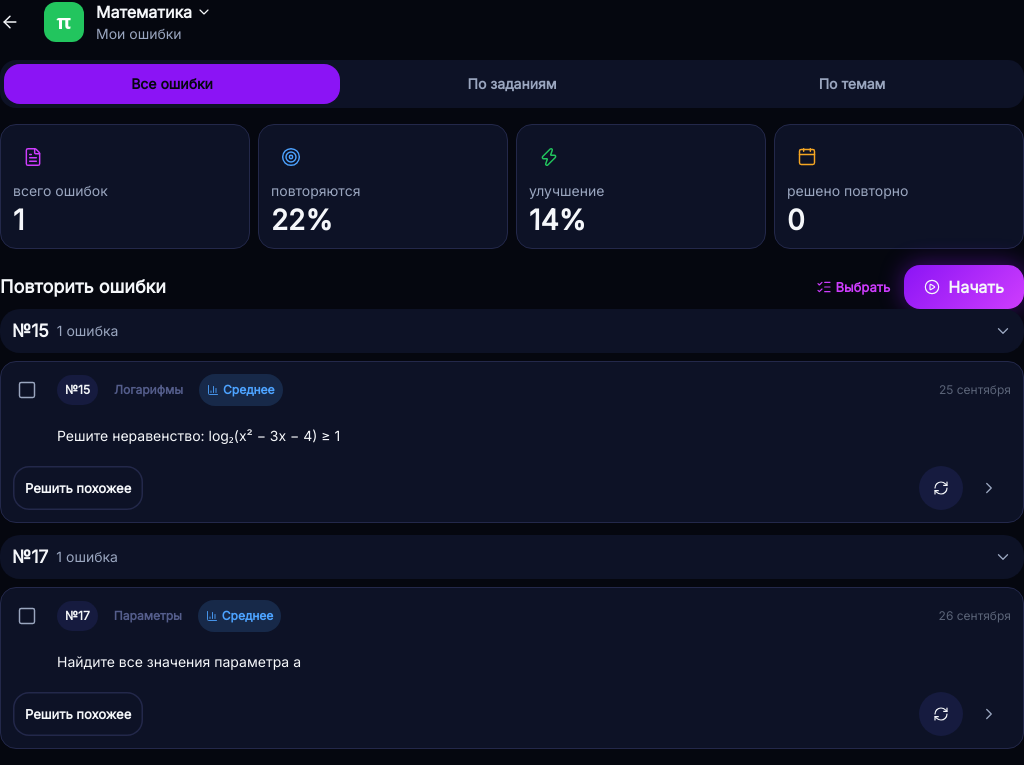
Test case: MistakesMobile › collapses and re-expands a task-number group without losing the real mistake
Expected: the button "Решите неравенство: log₂(x² − 3x − 4) ≥ 1" is shown, [13, 414, 1011, 458]
Click the button "№15 1 ошибка": (92, 330) [0, 309, 1023, 353]
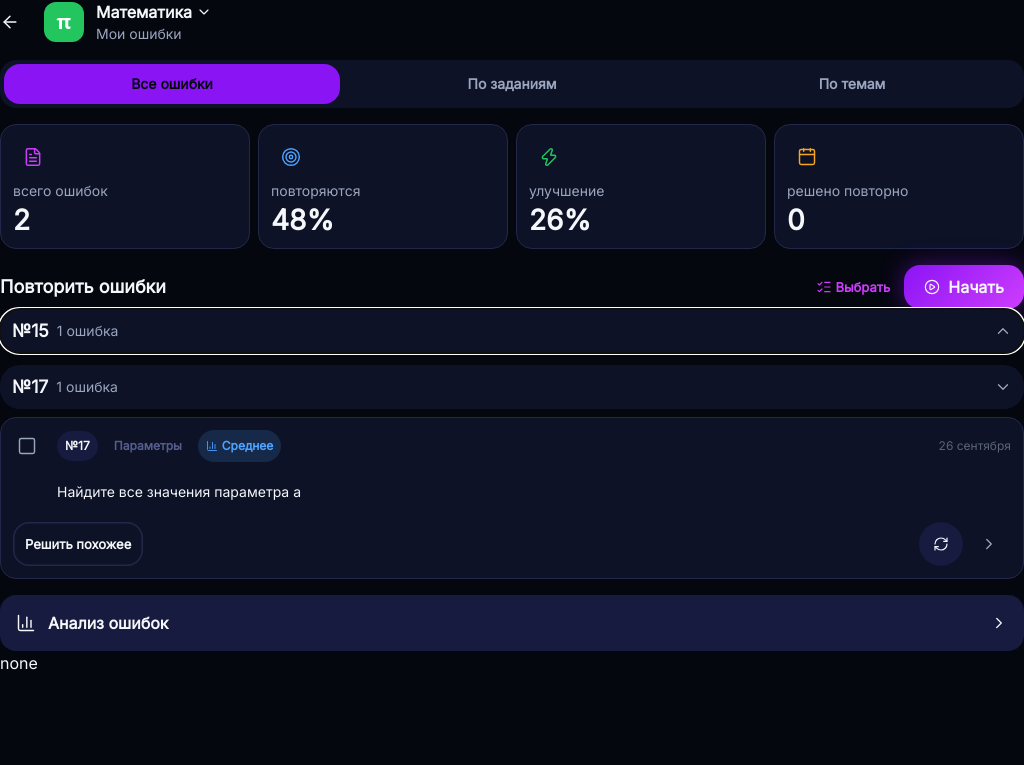
Expected: the button "Найдите все значения параметра a" is shown, [13, 470, 1011, 514]
Result: the button "№15 1 ошибка" is collapsed
Result: the button "Решите неравенство: log₂(x² − 3x − 4) ≥ 1" is gone
Click the button "№15 1 ошибка": (92, 330) [0, 309, 1023, 353]
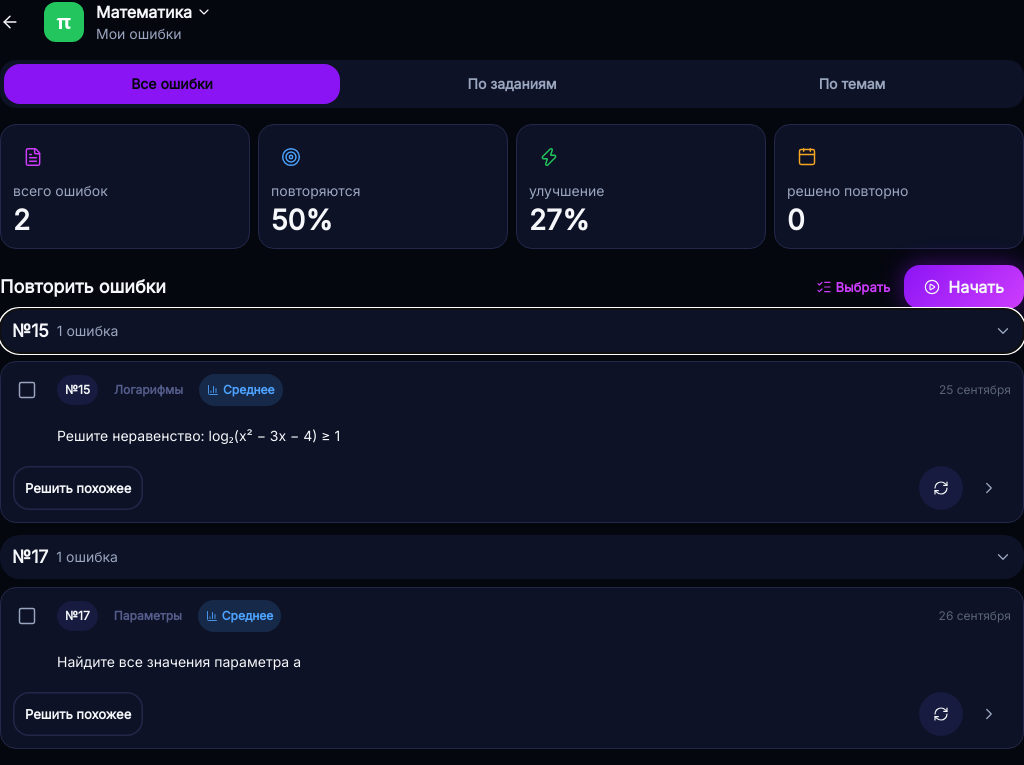
Result: the button "Решите неравенство: log₂(x² − 3x − 4) ≥ 1" is shown at [13, 414, 1011, 458]
